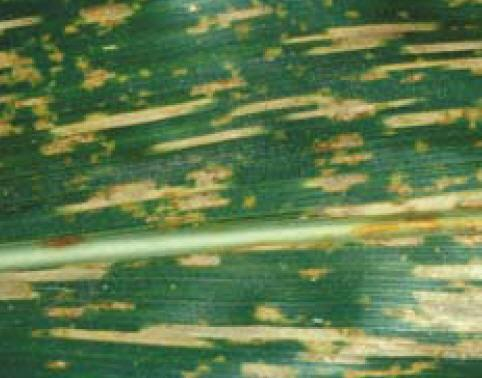Gray_Leaf_Spot: (0, 0, 482, 163), (21, 328, 480, 378), (48, 164, 234, 217), (348, 191, 482, 249), (0, 258, 119, 302), (356, 292, 482, 328), (381, 162, 482, 195), (409, 257, 482, 294), (49, 301, 137, 325), (296, 165, 374, 191), (145, 214, 214, 235), (232, 238, 339, 251), (23, 228, 92, 247), (293, 202, 348, 225), (168, 247, 227, 268), (250, 303, 293, 326), (295, 313, 342, 327), (297, 263, 333, 280), (238, 190, 262, 213), (122, 258, 158, 272)
